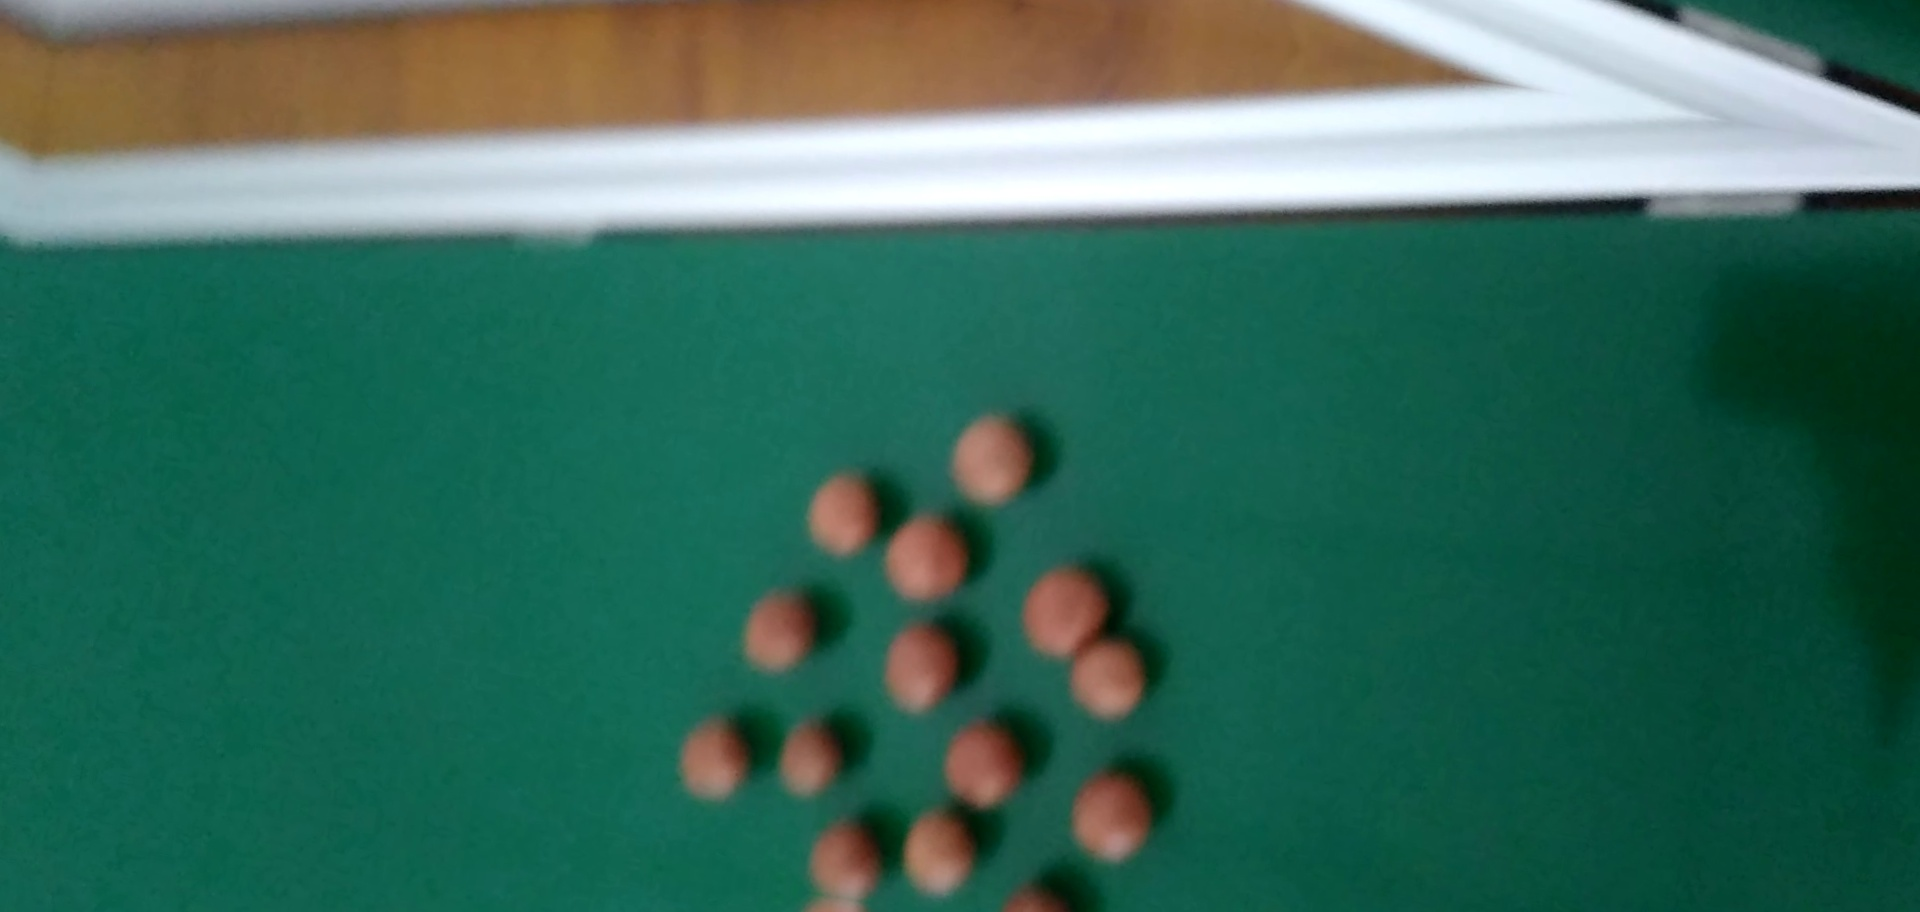mac: (1013, 557, 1114, 668), (942, 408, 1041, 512), (879, 503, 976, 610), (1064, 769, 1158, 868), (873, 622, 965, 722), (801, 464, 884, 564), (894, 808, 982, 901), (736, 585, 824, 677), (938, 719, 1024, 808), (667, 717, 753, 805), (1065, 634, 1151, 721), (800, 819, 884, 903), (775, 721, 841, 802), (996, 880, 1079, 912)
